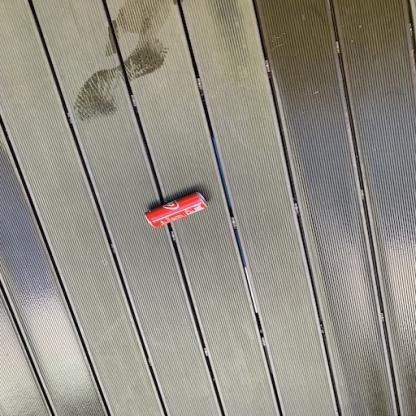trash: (144, 190, 211, 234)
